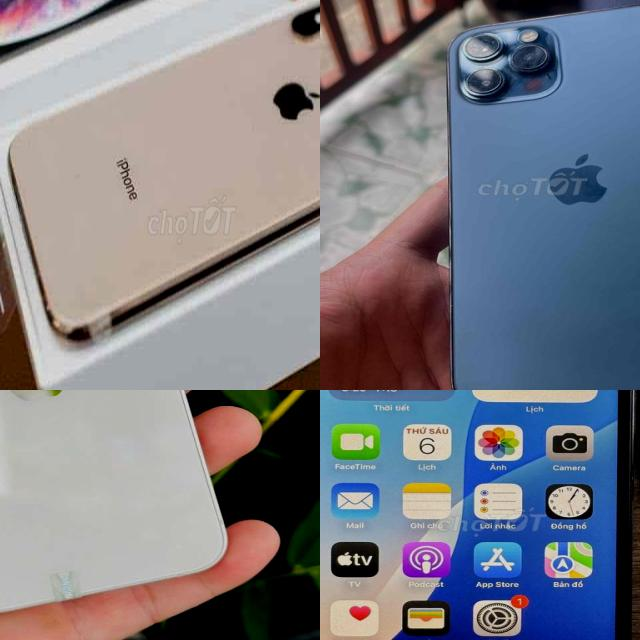gen_11: (320, 390, 640, 640)
gen_12_13: (435, 1, 640, 390), (0, 390, 230, 617)
gen_x_xs: (0, 0, 320, 335)
